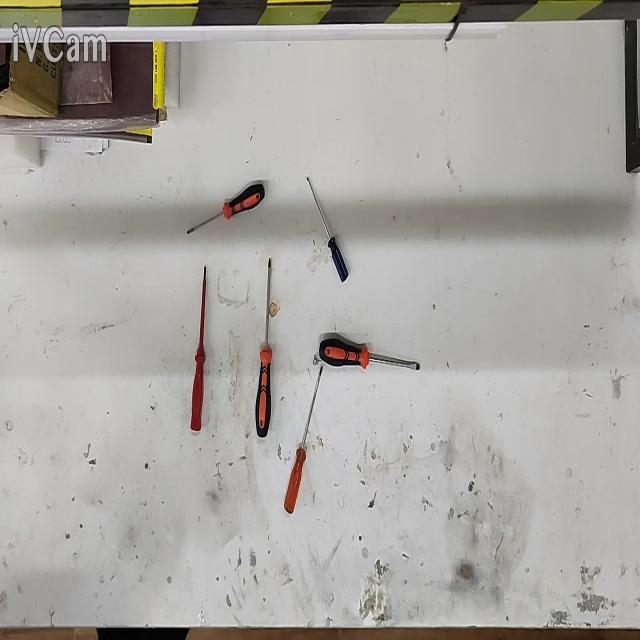Screwdriver: (285, 364, 322, 513), (307, 178, 349, 282), (187, 183, 266, 235), (319, 337, 420, 370), (255, 258, 272, 438), (191, 269, 207, 430)
